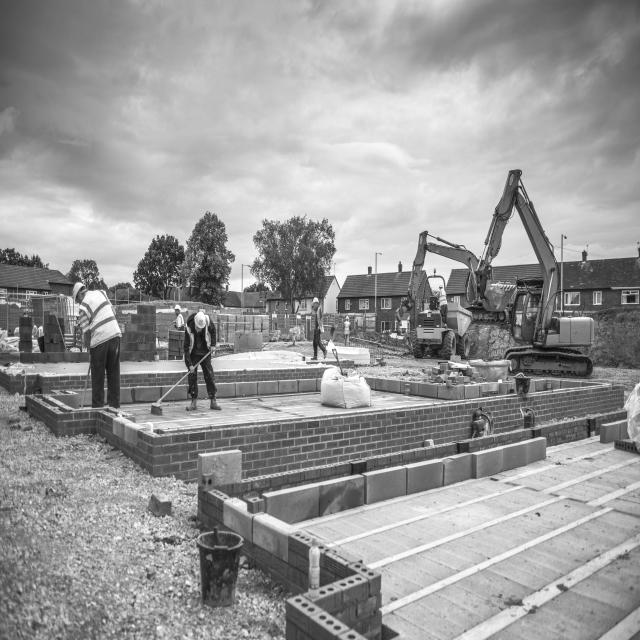head_helmet: (194, 312, 208, 329), (70, 282, 84, 297), (309, 294, 321, 306), (345, 313, 352, 321), (173, 303, 180, 309), (437, 285, 442, 291)
person: (80, 280, 122, 409), (182, 313, 215, 411), (307, 296, 325, 358), (340, 311, 356, 341), (434, 281, 448, 311)
shoes: (185, 395, 199, 413), (208, 396, 223, 412), (322, 347, 328, 360), (310, 354, 318, 362)
vest: (84, 291, 110, 343), (186, 326, 215, 348), (312, 308, 321, 330), (174, 314, 183, 328), (438, 294, 446, 304), (344, 320, 348, 330)
